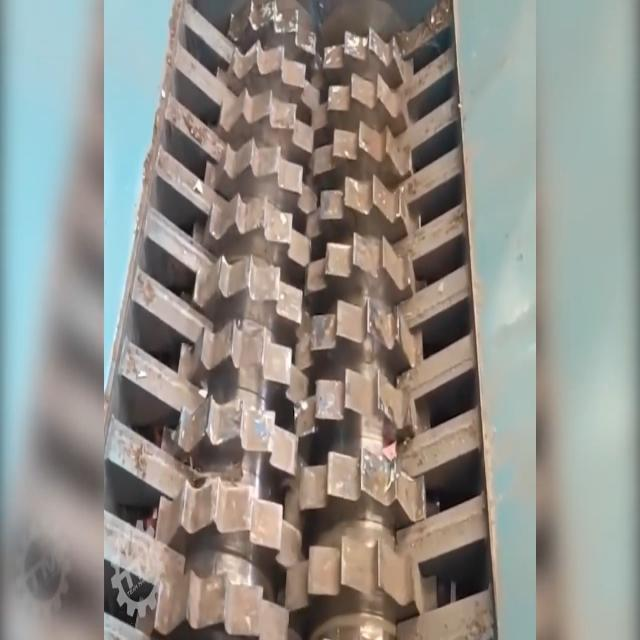Broyeur: (106, 0, 516, 640)
